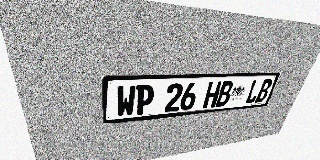2: (164, 83, 184, 112)
6: (179, 82, 199, 111)
B: (215, 81, 235, 107), (254, 79, 273, 103)
H: (202, 81, 222, 108)
L: (244, 80, 263, 104)
P: (135, 84, 155, 115)
W: (116, 85, 136, 117)
